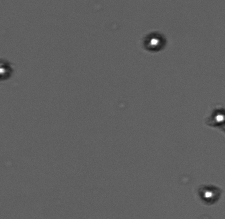Living Cell: (145, 32, 164, 52), (199, 185, 219, 202), (211, 108, 225, 128), (1, 58, 12, 83)
